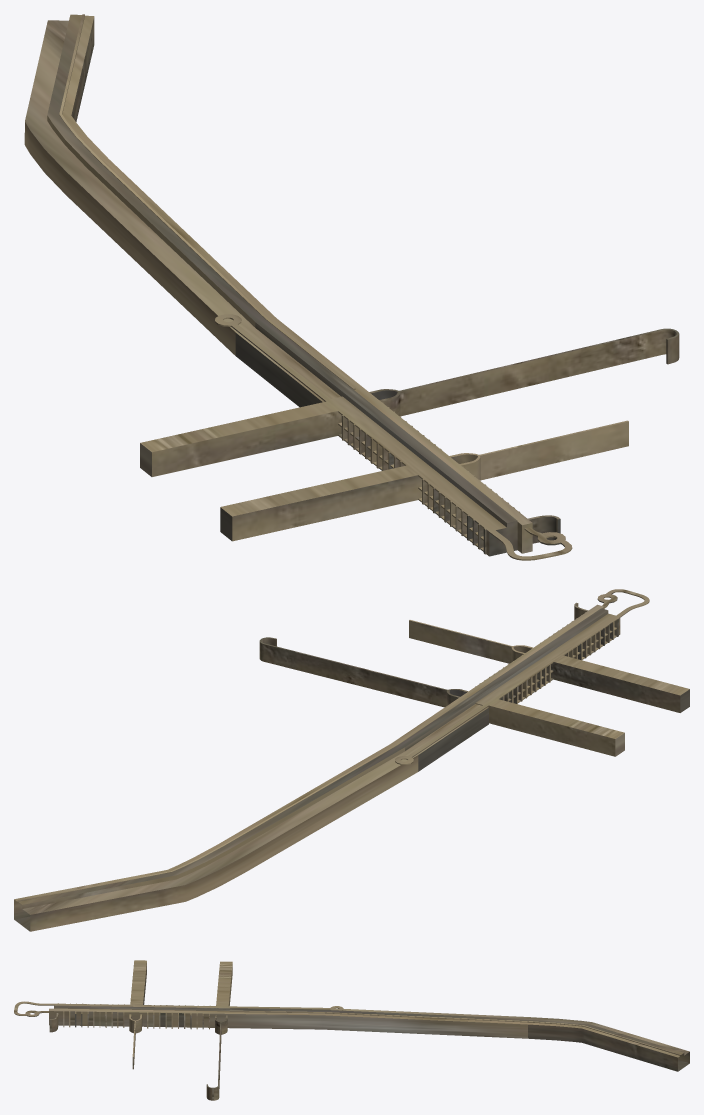
File: full_dam.dae
3 views of the same model, one above another, from view 1: azimuth 30°, elevation 25°; view 2: azimuth 150°, elevation 25°; view 3: azimuth 270°, elevation 25° (orthographic). The views are drawn at different scales.
Visible parts, largest first — view 1: full_dam; view 2: full_dam; view 3: full_dam.
Part boxes in pixels (box(x1,y1,x2,y2)): full_dam: box(24, 14, 679, 560); full_dam: box(14, 589, 689, 931); full_dam: box(14, 960, 689, 1100).
Bounding box in the file's own units: 1067 × 2384 × 58.38.
Materials: 1 (1 with a texture image).
